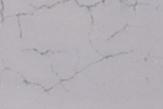fissura: (0, 0, 138, 92)
